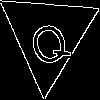Q: (22, 11, 73, 72)
